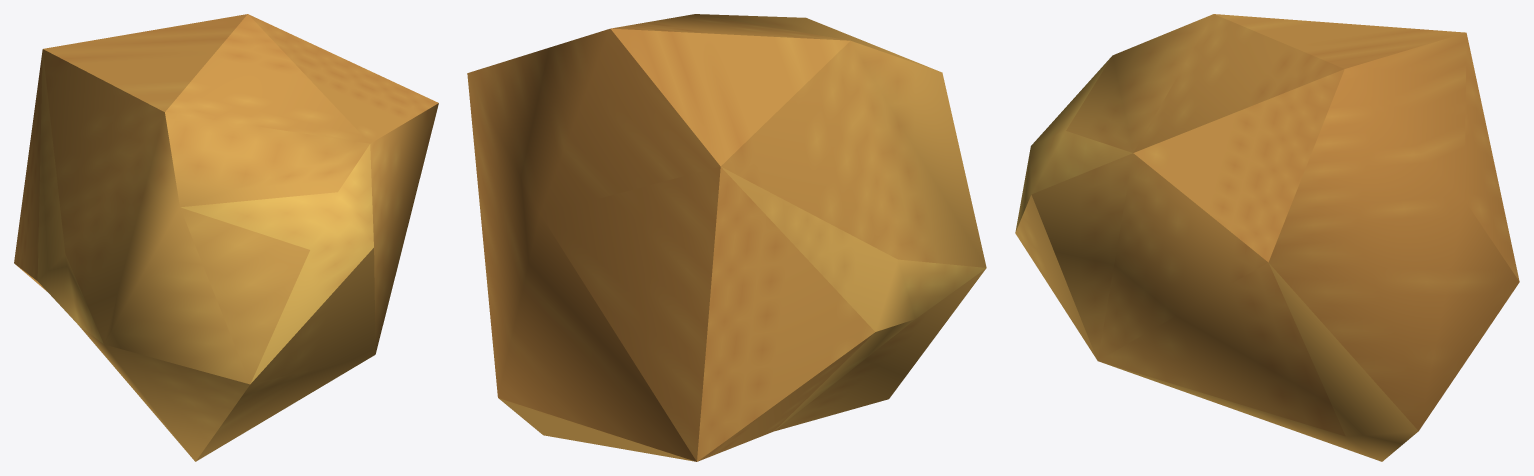
File: Gold_Nugget_Small.gltf
3 views of the same model, side by side, from view 1: azimuth 30°, elevation 25°; view 2: azimuth 150°, elevation 25°; view 3: azimuth 270°, elevation 25° (orthographic). The views are drawn at different scales.
Parts seen in each view (by area): view 1: Gold_Nugget_Small; view 2: Gold_Nugget_Small; view 3: Gold_Nugget_Small.
Boxes of the visible parts, left/top/right/bottom form: Gold_Nugget_Small: left=14, top=14, right=438, bottom=461; Gold_Nugget_Small: left=467, top=14, right=986, bottom=461; Gold_Nugget_Small: left=1015, top=14, right=1519, bottom=461.
Size of the model in its own units: 0.1411 by 0.1204 by 0.1461.
Materials: 1 (1 with a texture image).
